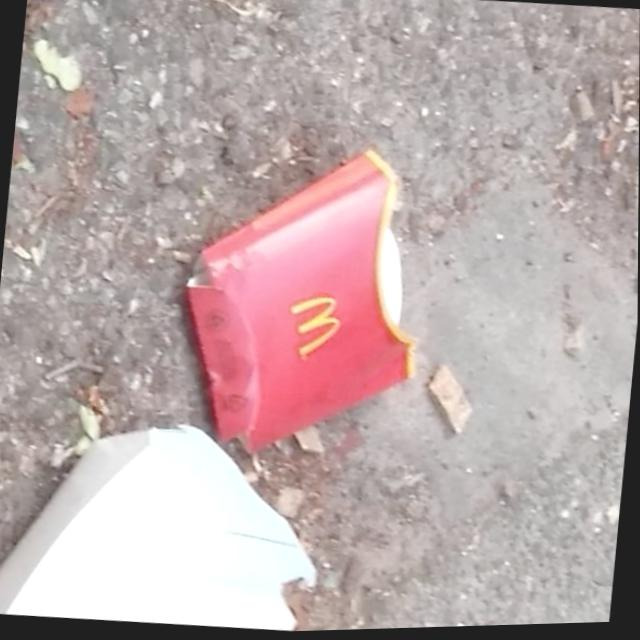Paper: (168, 127, 441, 470), (0, 399, 337, 640)
